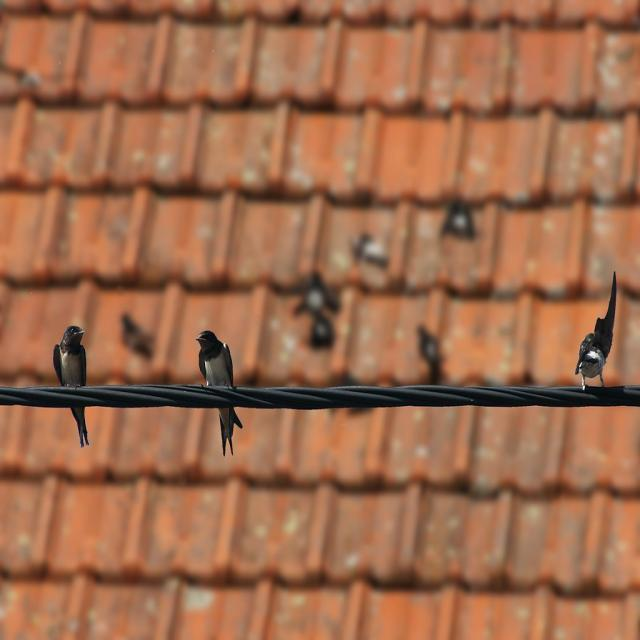bird: (196, 329, 244, 457), (572, 270, 619, 394), (52, 324, 90, 448), (120, 312, 155, 360)
